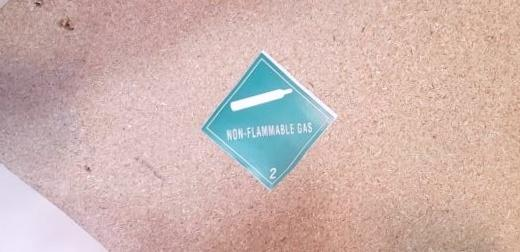non-flammable-gas: (199, 52, 335, 192)
